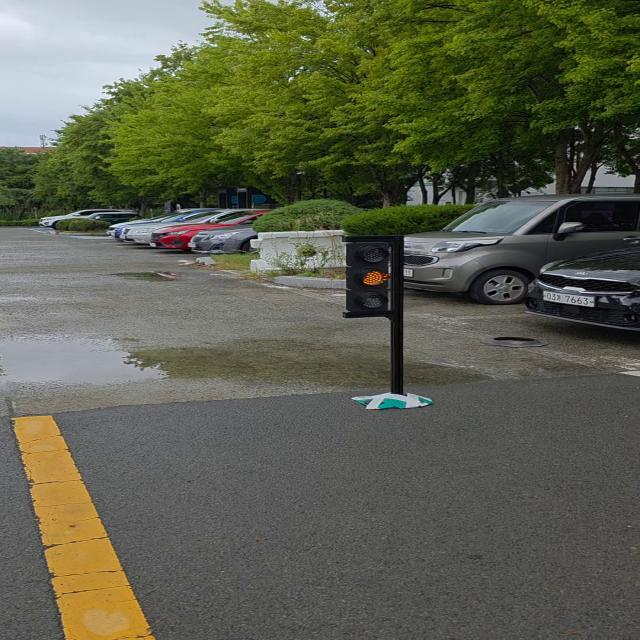yellow: (342, 234, 404, 317)
